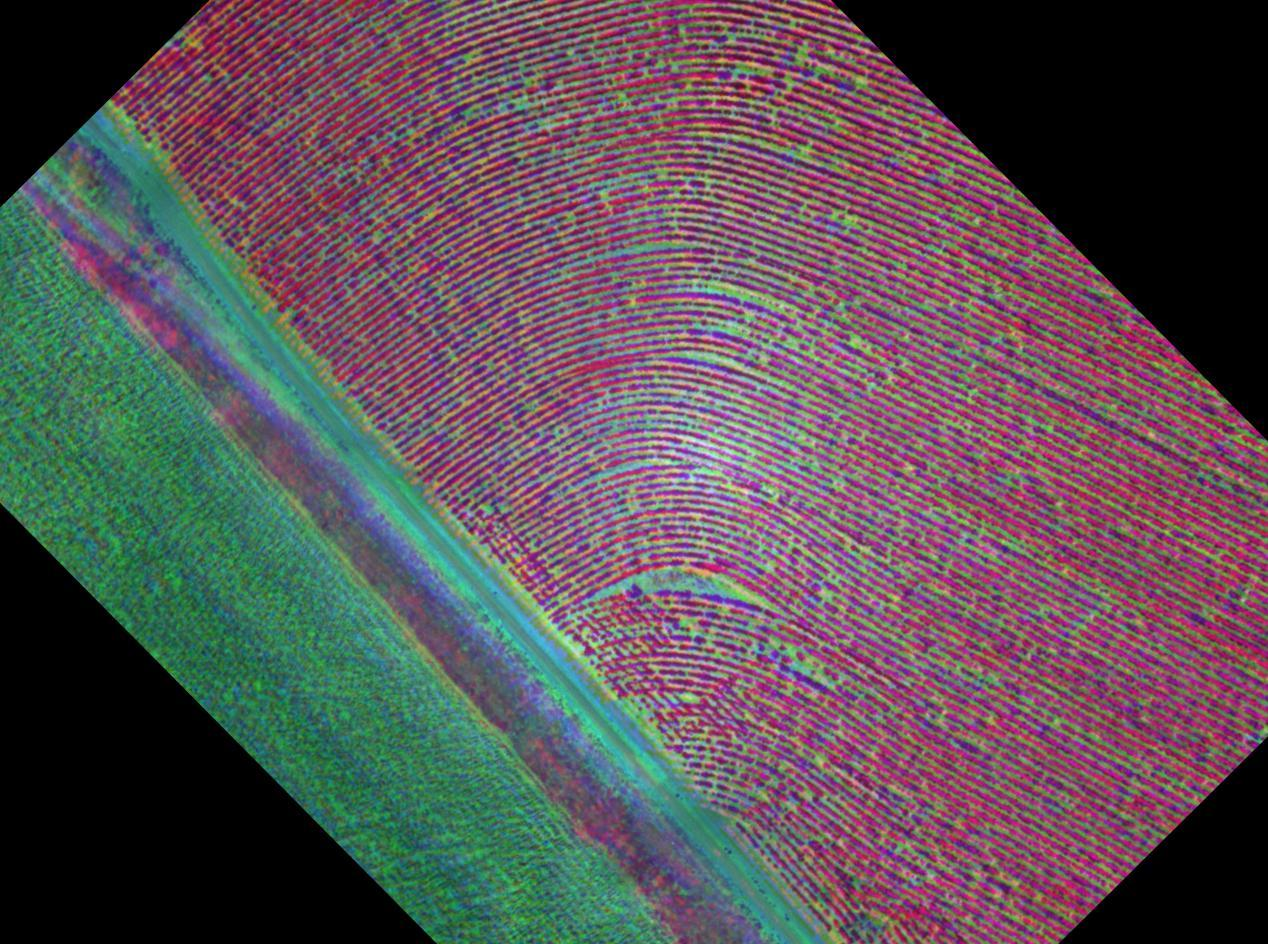dc: (721, 0, 867, 179), (593, 563, 777, 655), (681, 263, 801, 389), (453, 45, 566, 160)
